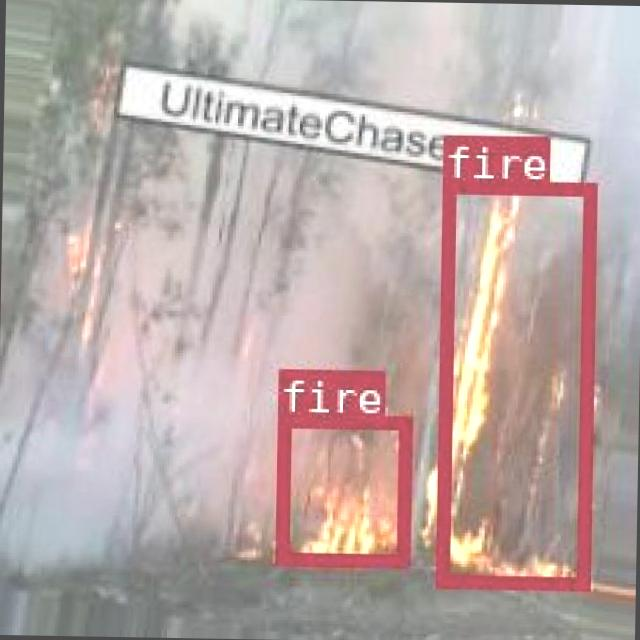fire: (434, 178, 592, 586), (273, 412, 410, 565)
